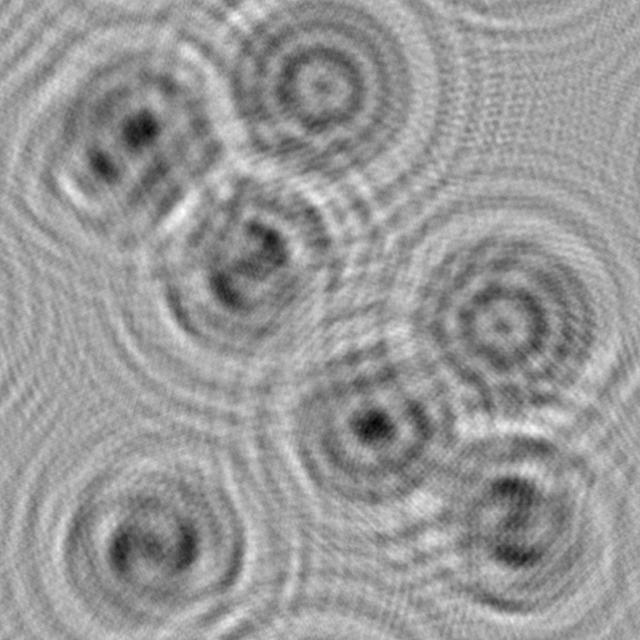P: (253, 291, 500, 558)
Q: (353, 169, 640, 481), (150, 0, 444, 227)
R: (0, 14, 253, 269)
S: (111, 121, 373, 406), (400, 391, 640, 640), (30, 423, 287, 640)
